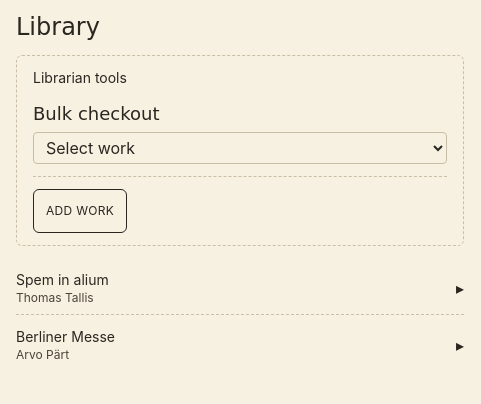
Test case: #271 — create-edition control placement on /library (integration) › a work whose edition read ERRORED does not offer it — the retry affordance owns that state
Expected: the list item with test id "library-work-work-1" is shown, [16,262,464,315]
Expected: the list item with test id "library-work-work-2" is shown, [16,319,464,371]
Click the button "Berliner Messe Arvo Pärt ▸" at (65, 336), box [16,327,464,363]
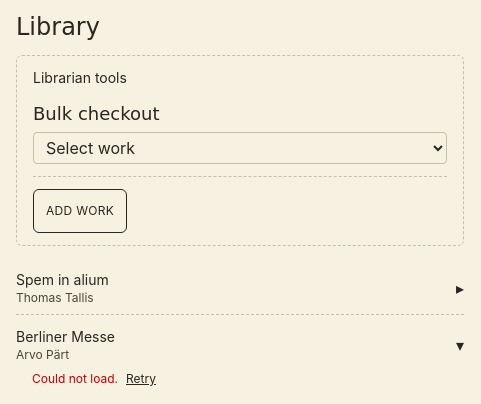
Now the element with id "library-editions-work-2" is shown, box [32,371,156,387]
Now the element with id "library-editions-work-2" shows "Could not load.", box [32,371,118,386]
